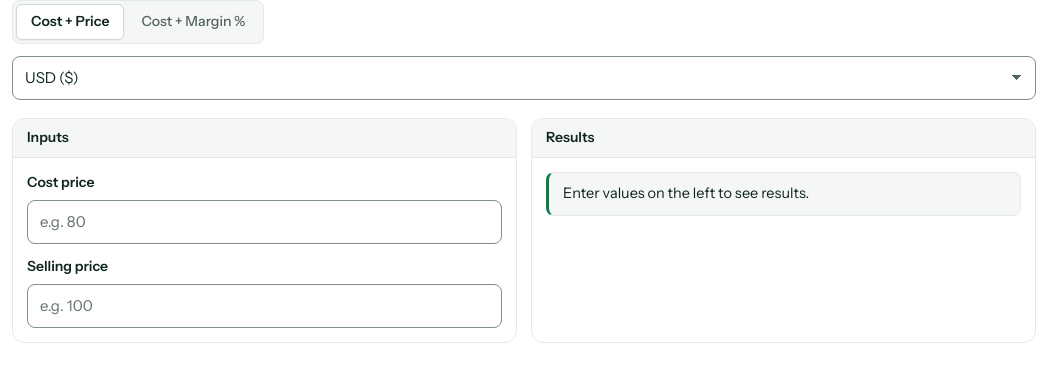
Test: MarginCalculator › shows zero profit when cost equals price
Step 1. Type "50" into the number field with placeholder "e.g. 80" → (264, 222), box [27,200,502,244]
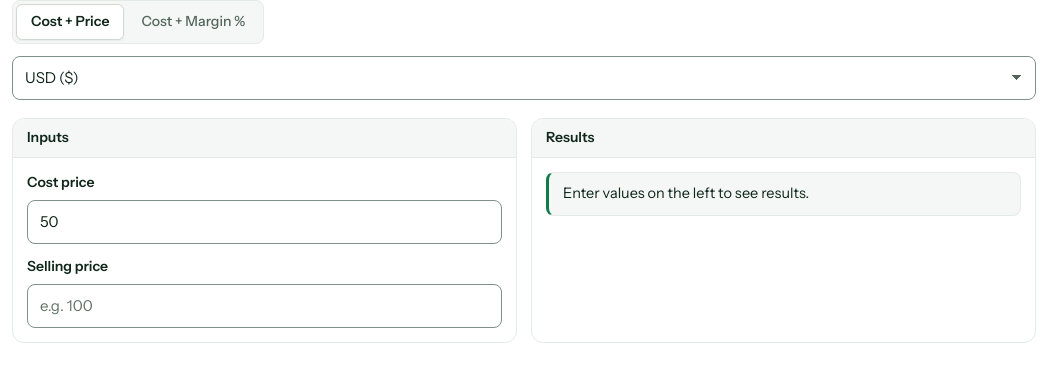
Step 2. Type "50" into the number field with placeholder "e.g. 100" → (264, 306), box [27,284,502,328]
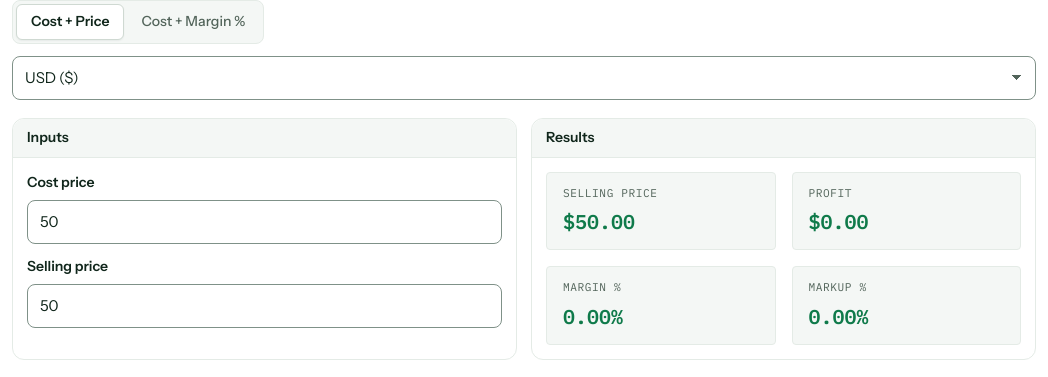
Expected: the text with test id "result-profit" shows "0.00", [808,208,868,235]
Expected: the text with test id "result-margin" reads "0.00%", [563,303,623,330]
Expected: the text with test id "result-markup" reads "0.00%", [808,303,868,330]
